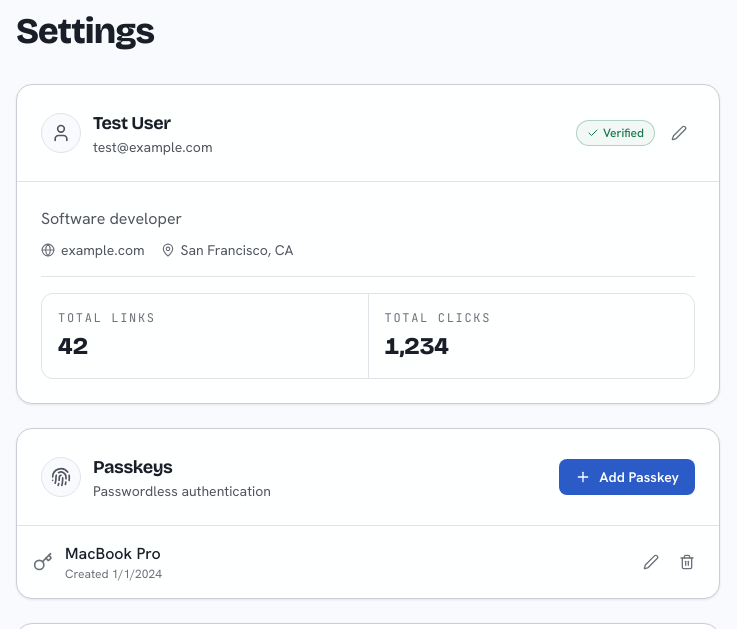
Test: Settings account correctness › Edit profile › limits each field to what the server accepts
This screenshot has width=737, height=629.
Click the button named "Edit profile" at (679, 133), box [663,117,695,149]
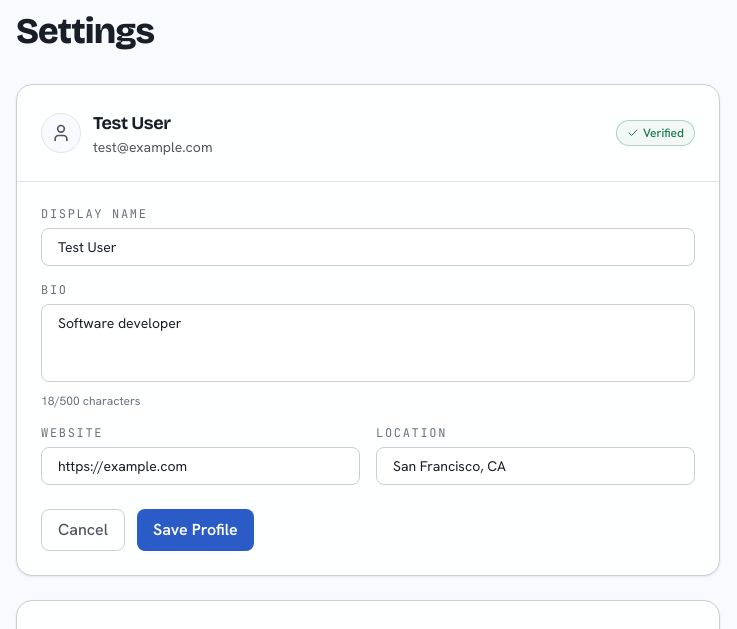
Expected: the field labelled "Display Name" is shown, [41,228,695,266]
